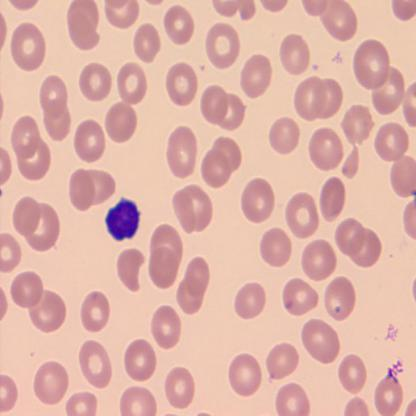Lymphocyte: (104, 195, 143, 243)
